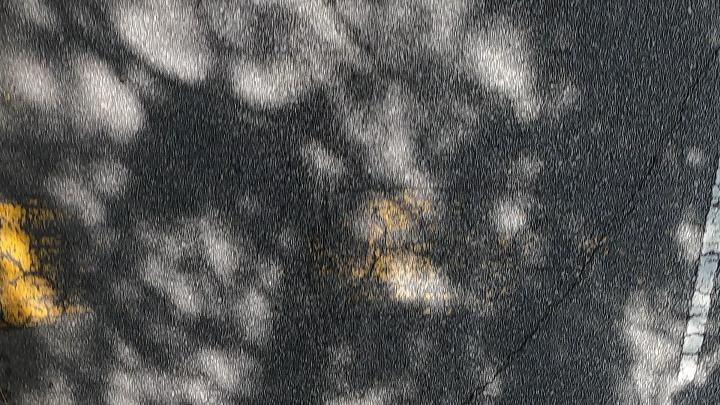Crack: (458, 41, 720, 402), (461, 136, 687, 404), (673, 45, 719, 133)
Lane: (676, 162, 719, 388), (683, 166, 720, 404)
